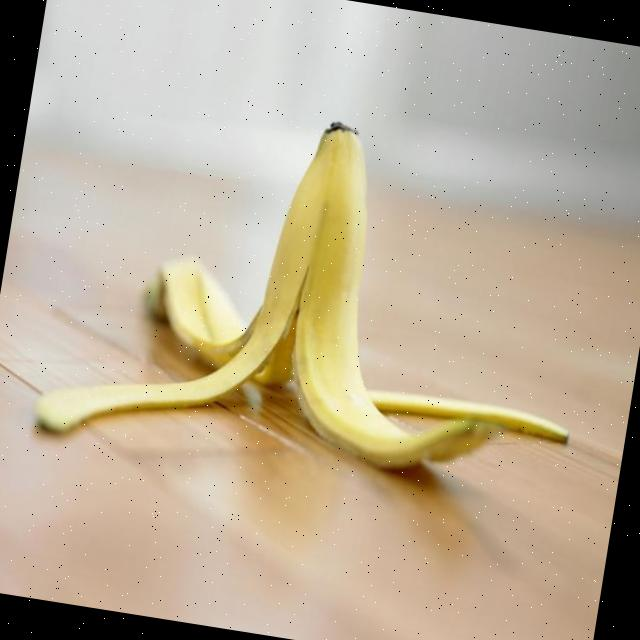banana-peel: (30, 79, 610, 512)
